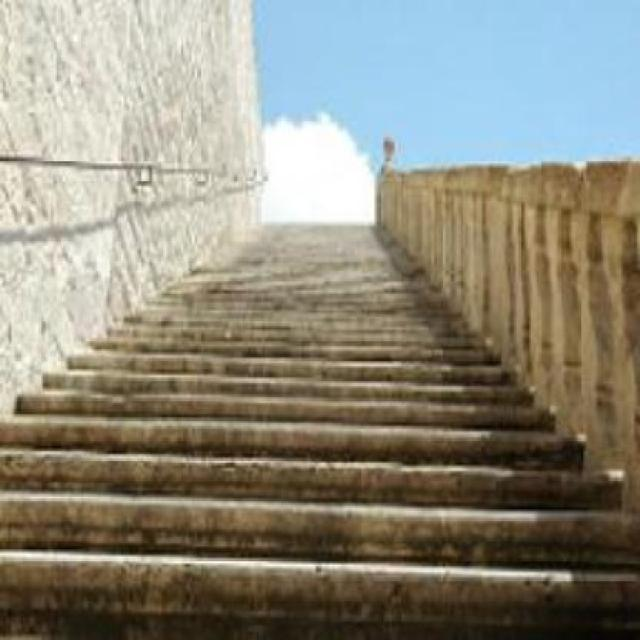stair: (3, 218, 634, 640)
